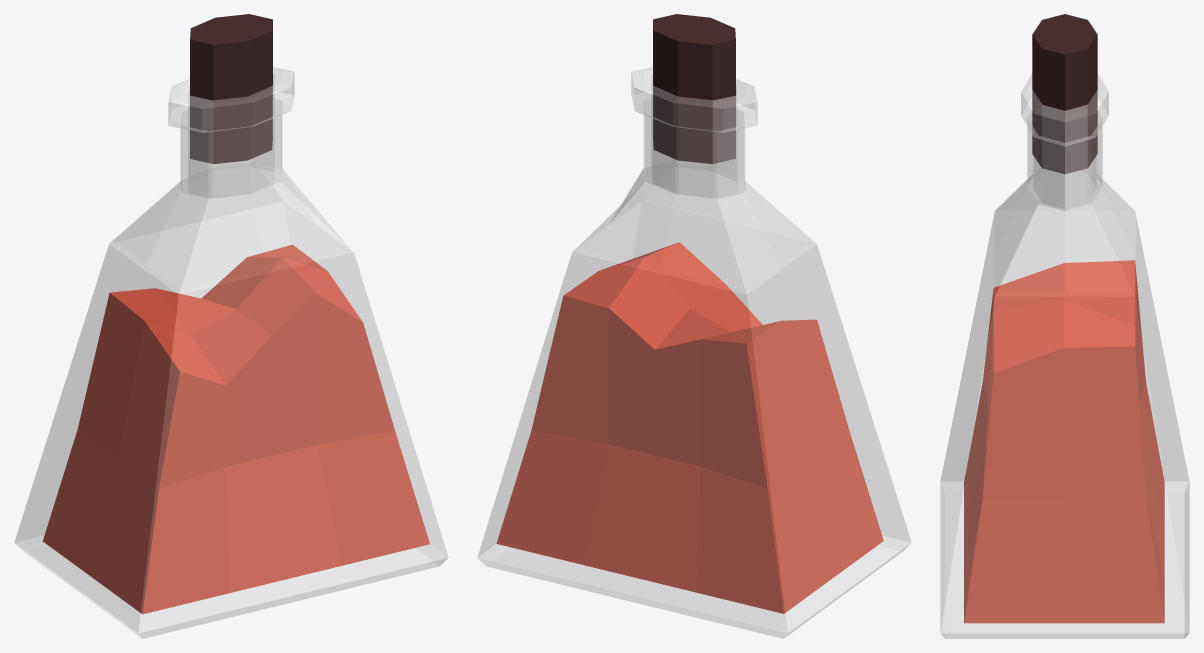
The model's file is PocaoTriangular.fbx.
3 renders of one model, left to right at view 1: azimuth 30°, elevation 25°; view 2: azimuth 150°, elevation 25°; view 3: azimuth 270°, elevation 25°, orthographic.
Visible parts, largest first — view 1: PoçãoTriangular, PoçãoTriangularLiquido; view 2: PoçãoTriangular, PoçãoTriangularLiquido; view 3: PoçãoTriangular, PoçãoTriangularLiquido.
Boxes of the visible parts, left/top/right/bottom form: PoçãoTriangular: left=14, top=14, right=448, bottom=638; PoçãoTriangularLiquido: left=43, top=244, right=429, bottom=614; PoçãoTriangular: left=477, top=14, right=911, bottom=638; PoçãoTriangularLiquido: left=496, top=242, right=883, bottom=613; PoçãoTriangular: left=940, top=14, right=1189, bottom=638; PoçãoTriangularLiquido: left=964, top=260, right=1164, bottom=623.
Size of the model in its own units: 42.79 by 69.72 by 29.59.
